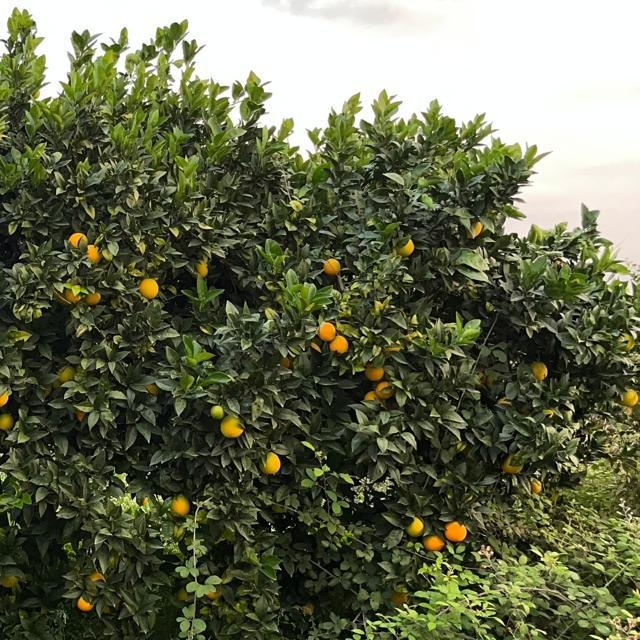orange: (384, 578, 412, 610), (501, 449, 527, 475), (258, 449, 282, 475), (218, 415, 242, 437), (139, 274, 161, 298), (168, 492, 190, 516), (59, 280, 81, 304), (193, 252, 213, 278), (444, 518, 466, 540), (82, 242, 102, 264), (528, 359, 548, 381), (620, 386, 640, 406), (405, 514, 423, 536), (322, 255, 340, 275), (397, 236, 415, 256), (317, 322, 337, 340), (467, 219, 485, 239), (423, 535, 443, 553), (84, 287, 102, 305), (66, 228, 82, 248), (75, 596, 93, 612), (366, 363, 384, 379), (376, 382, 394, 398), (0, 412, 13, 432), (60, 367, 76, 381), (332, 338, 346, 352), (208, 586, 224, 598), (362, 391, 380, 401), (1, 577, 17, 587), (0, 387, 7, 407), (531, 482, 543, 492), (211, 405, 221, 417), (19, 637, 41, 640)
